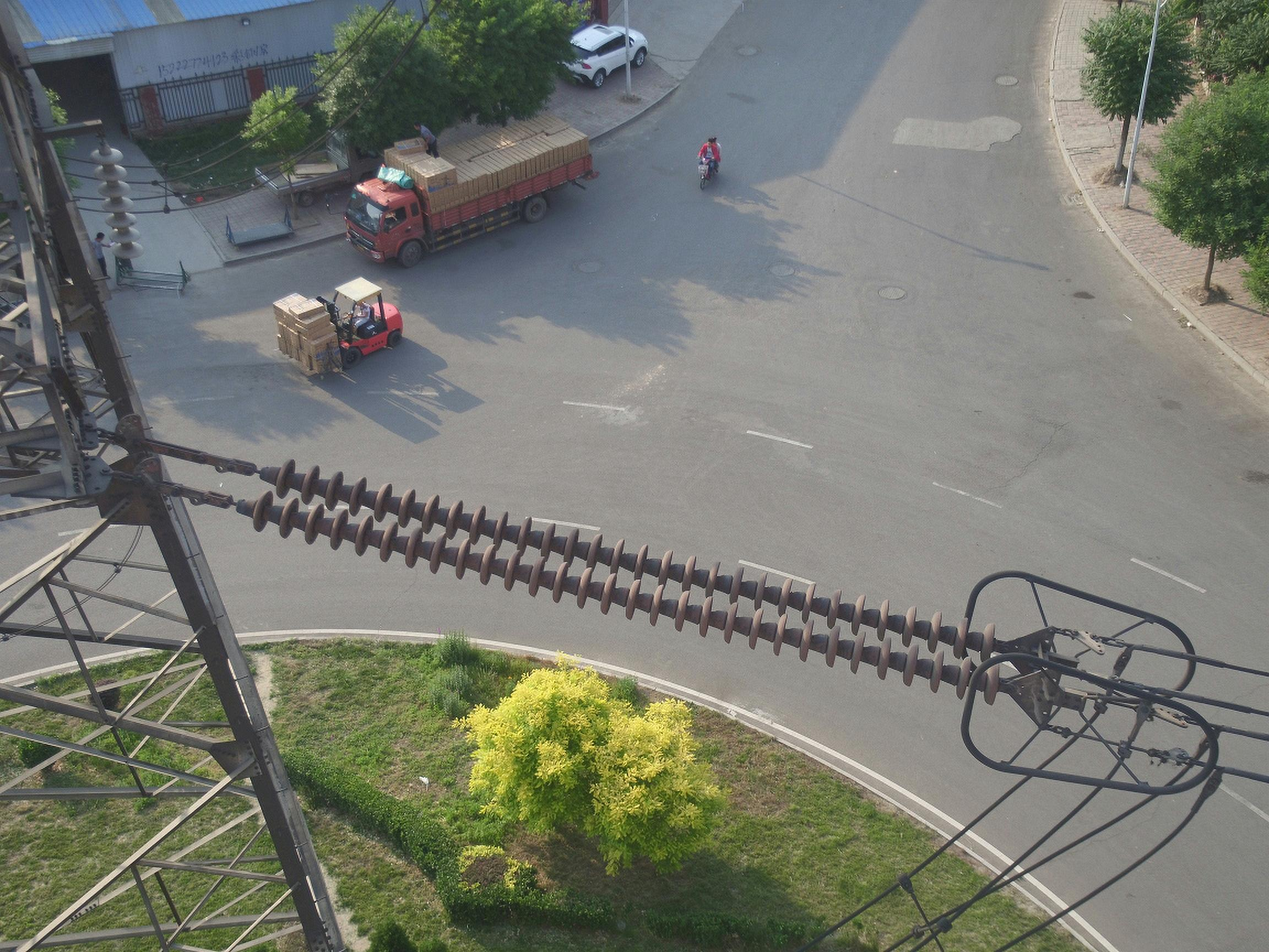insulator: (245, 455, 1006, 707), (88, 145, 147, 263)
